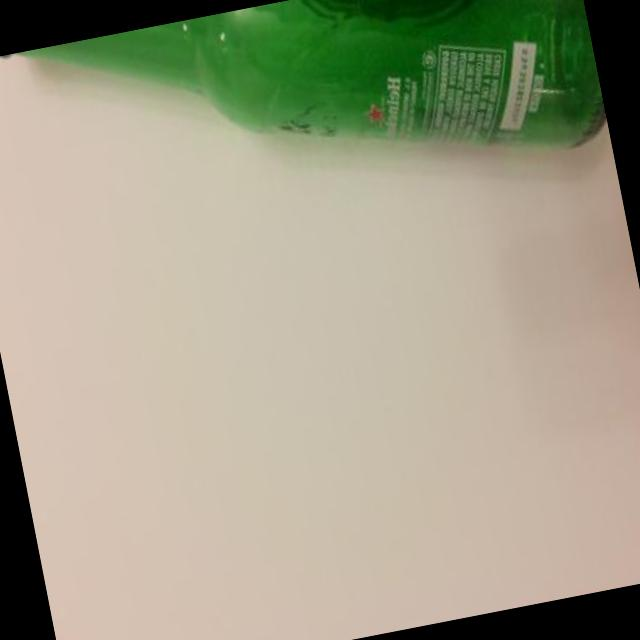chai_thuy_tinh: (10, 0, 606, 149)
